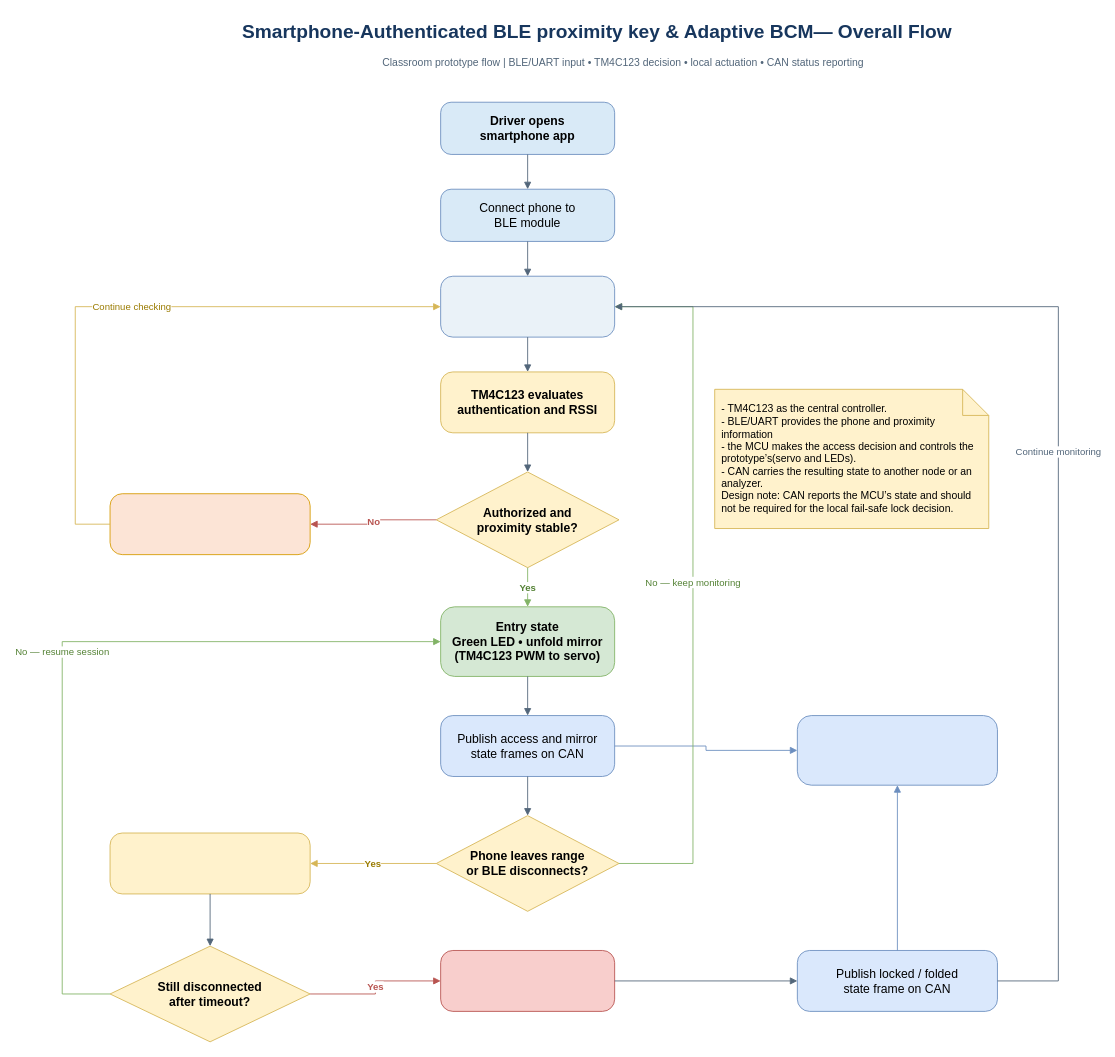
The diagram is 1115 pixels wide and 1057 high, and some of its shapes have lost their labels. The shapes that lost their labels are listed below. From the top down, each one's centre as x and y in pixels, then its label:
At (x=527, y=306): "BLE module sends connection and RSSI data over UART".
At (x=209, y=524): "Stay locked / fail safe Red LED • mirror folded".
At (x=896, y=750): "CAN transceiver + bus USB-CAN analyzer or receiving Node B".
At (x=209, y=863): "Start low-RSSI / disconnect timeout".
At (x=527, y=980): "Return to locked state Red LED • fold mirror".
